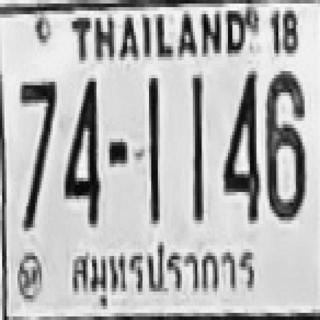N01: (148, 76, 159, 222), (191, 73, 202, 219)
N04: (221, 68, 259, 220), (64, 75, 98, 224)
N06: (265, 68, 305, 217)
N07: (19, 78, 56, 228)
P57: (62, 240, 261, 310)
